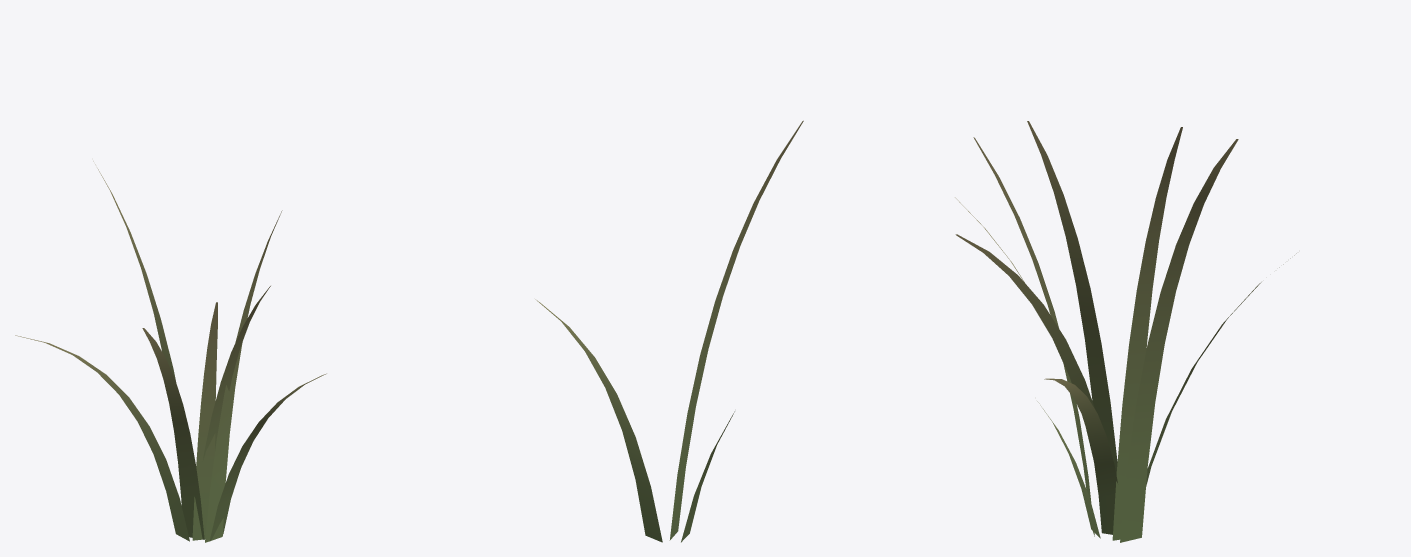
The model's file is beach-grass.glb.
3 views of the same model, side by side, from view 1: azimuth 30°, elevation 25°; view 2: azimuth 150°, elevation 25°; view 3: azimuth 270°, elevation 25° (orthographic). The views are drawn at different scales.
Visible parts, largest first — view 1: Beach_grass; view 2: Beach_grass; view 3: Beach_grass.
Part boxes in pixels (left/top/right/bottom): Beach_grass: left=15, top=161, right=326, bottom=542; Beach_grass: left=535, top=120, right=803, bottom=542; Beach_grass: left=955, top=121, right=1296, bottom=542.
Size of the model in its own units: 0.8751 by 1 by 0.8862.
